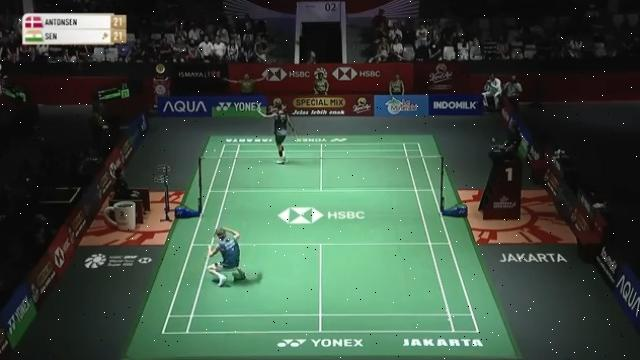Shuttlecock: (209, 147, 221, 153)
